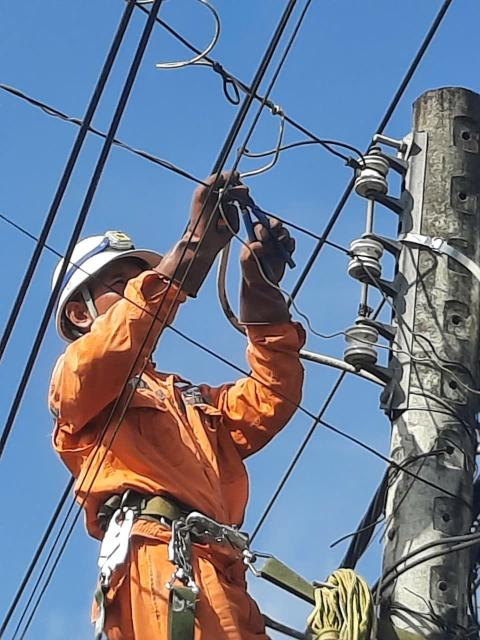gloves: (160, 152, 240, 310), (241, 208, 322, 338)
harness: (67, 482, 276, 576)
helmet: (43, 224, 170, 338)
